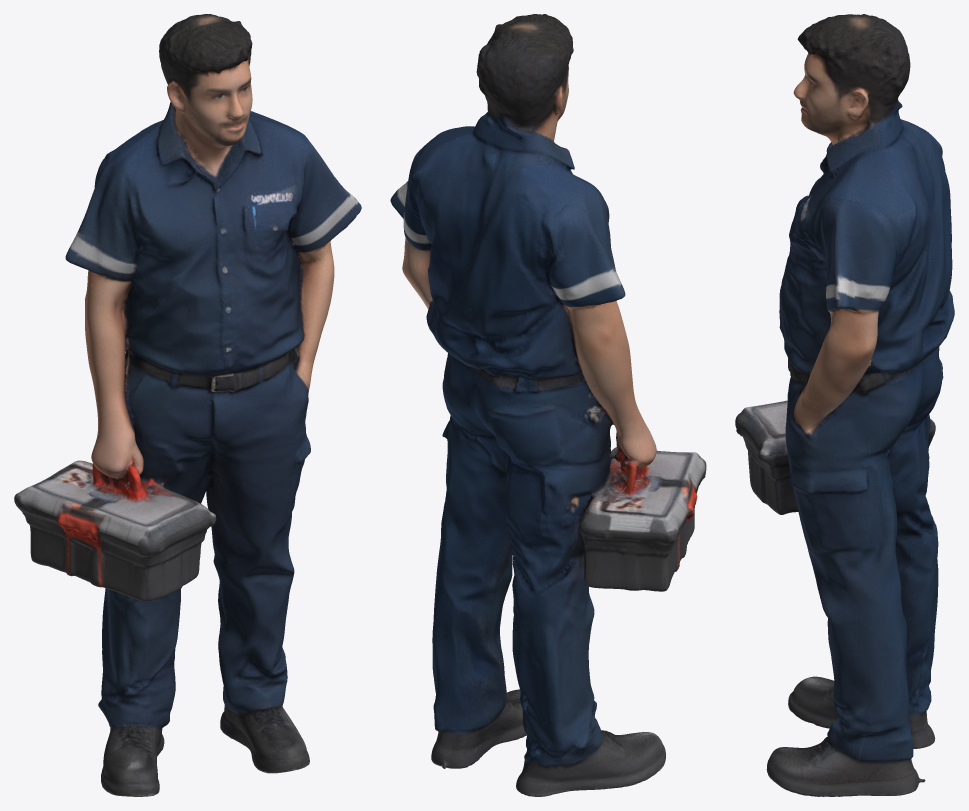
File: Technician.glb
The picture shows the model from 3 angles, left to right: view 1: azimuth 30°, elevation 25°; view 2: azimuth 150°, elevation 25°; view 3: azimuth 270°, elevation 25°; orthographic projection.
Size of the model in its own units: 0.8946 by 2 by 0.5375.
Materials: 1 (1 with a texture image).
